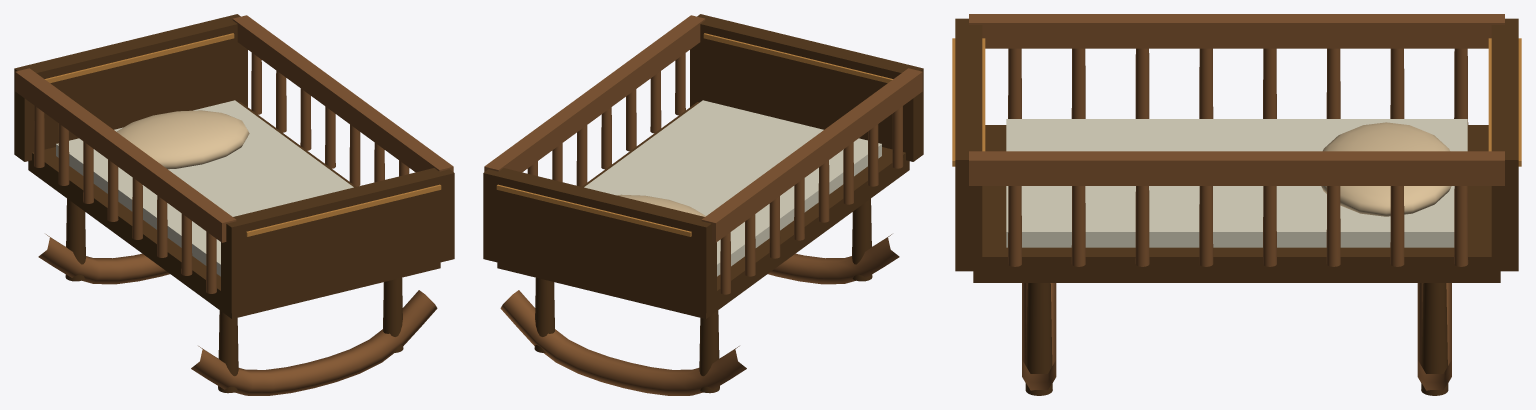
File: mia-cradle.glb
3 renders of one model, left to right at view 1: azimuth 30°, elevation 25°; view 2: azimuth 150°, elevation 25°; view 3: azimuth 270°, elevation 25°, orthographic. The views are drawn at different scales.
Parts seen in each view (by area): view 1: Body_wood, Body_oak, Body_mattress, Body_ivory, Body_brass; view 2: Body_wood, Body_oak, Body_mattress, Body_brass, Body_ivory; view 3: Body_oak, Body_wood, Body_mattress, Body_ivory, Body_brass.
Boxes of the visible parts, bbox=[...] form: Body_wood: bbox=[14, 14, 454, 393]; Body_oak: bbox=[15, 15, 453, 395]; Body_mattress: bbox=[56, 100, 353, 276]; Body_ivory: bbox=[116, 110, 249, 169]; Body_brass: bbox=[45, 33, 441, 236]; Body_wood: bbox=[483, 14, 923, 393]; Body_oak: bbox=[484, 15, 922, 395]; Body_mattress: bbox=[584, 100, 881, 276]; Body_brass: bbox=[496, 33, 892, 236]; Body_ivory: bbox=[617, 194, 705, 216]; Body_oak: bbox=[969, 14, 1504, 390]; Body_wood: bbox=[955, 18, 1518, 395]; Body_mattress: bbox=[1006, 119, 1467, 247]; Body_ivory: bbox=[1321, 122, 1451, 216]; Body_brass: bbox=[952, 38, 1521, 166].
Bounding box in the file's own units: 0.8405 × 0.6858 × 1.29.
